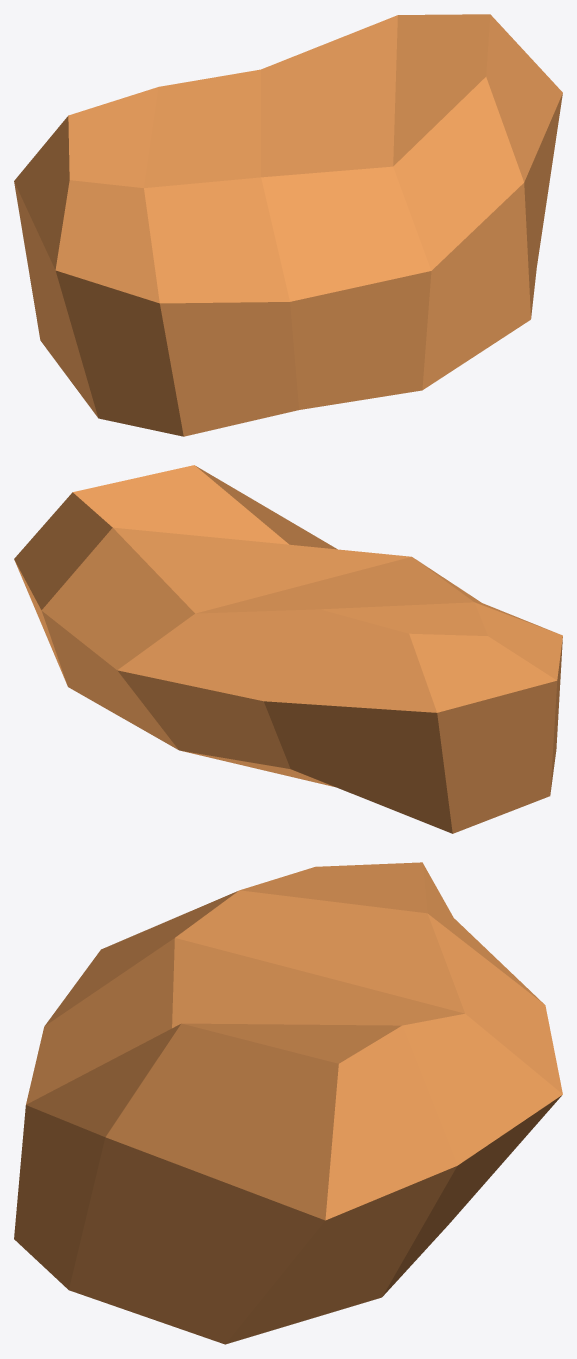
Rendered from SM_SmallRock_3.FBX.
The picture shows the model from 3 angles, top to bottom: view 1: azimuth 30°, elevation 25°; view 2: azimuth 150°, elevation 25°; view 3: azimuth 270°, elevation 25°; orthographic projection. The views are drawn at different scales.
Parts seen in each view (by area): view 1: Rock 3; view 2: Rock 3; view 3: Rock 3.
Part boxes in pixels (x1=…): Rock 3: x1=14, y1=14, x2=562, y2=436; Rock 3: x1=14, y1=465, x2=562, y2=833; Rock 3: x1=14, y1=862, x2=562, y2=1344.
Size of the model in its own units: 38.77 by 18.36 by 26.93.
